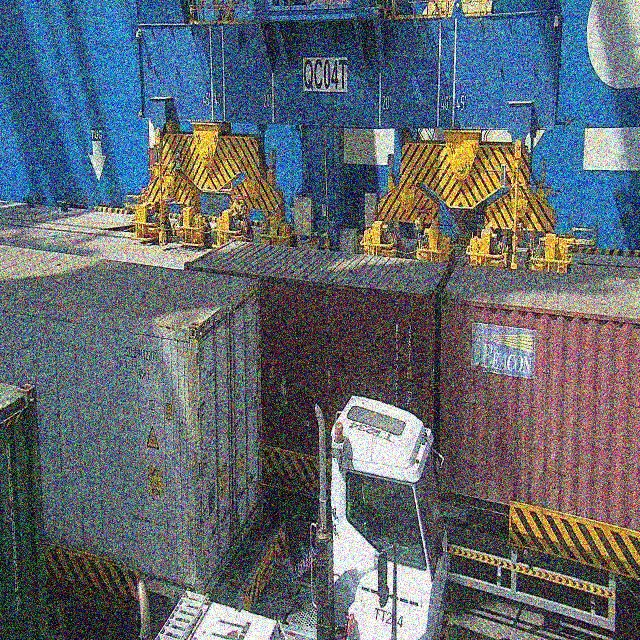Dent: (531, 456, 579, 508)
